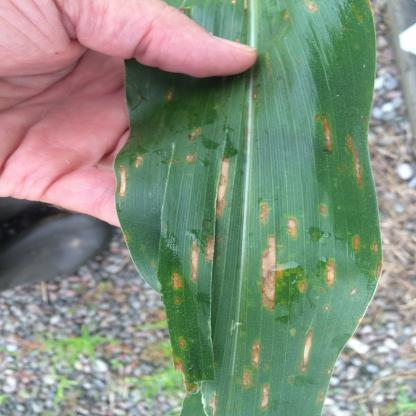corn gray leaf spot: (112, 83, 392, 416)
